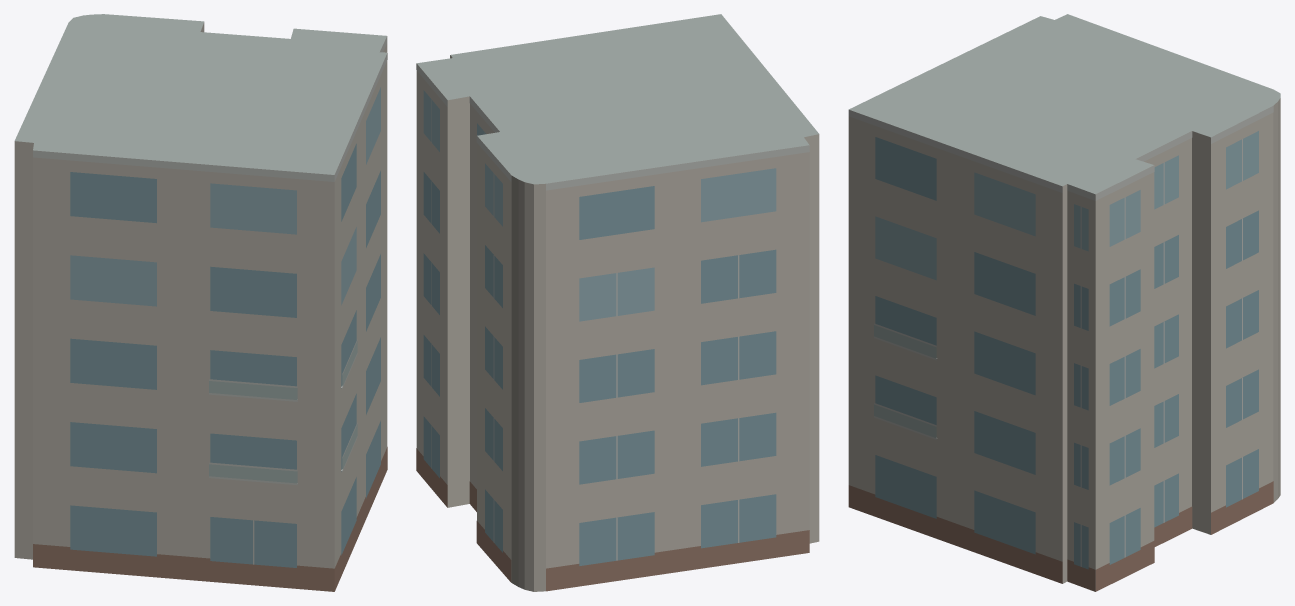
Rendered from survey-upis-32568475.glb.
3 views of the same model, side by side, from view 1: azimuth 30°, elevation 25°; view 2: azimuth 150°, elevation 25°; view 3: azimuth 270°, elevation 25° (orthographic). The views are drawn at different scales.
Parts seen in each view (by area): view 1: survey-upis-32568475.tmp; view 2: survey-upis-32568475.tmp; view 3: survey-upis-32568475.tmp.
Boxes of the visible parts, x1=… form: survey-upis-32568475.tmp: x1=14, y1=14, x2=387, y2=591; survey-upis-32568475.tmp: x1=416, y1=14, x2=819, y2=591; survey-upis-32568475.tmp: x1=848, y1=14, x2=1280, y2=591.
Size of the model in its own units: 14.11 by 14.5 by 14.28.
